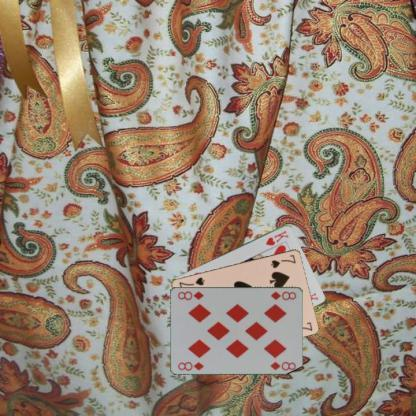7s: (268, 252, 297, 269)
8d: (176, 358, 206, 372), (268, 289, 298, 301)
Kh: (263, 228, 290, 246)
